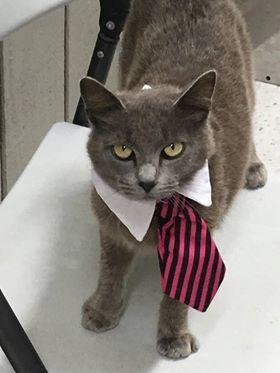rblue: (75, 49, 225, 219)
